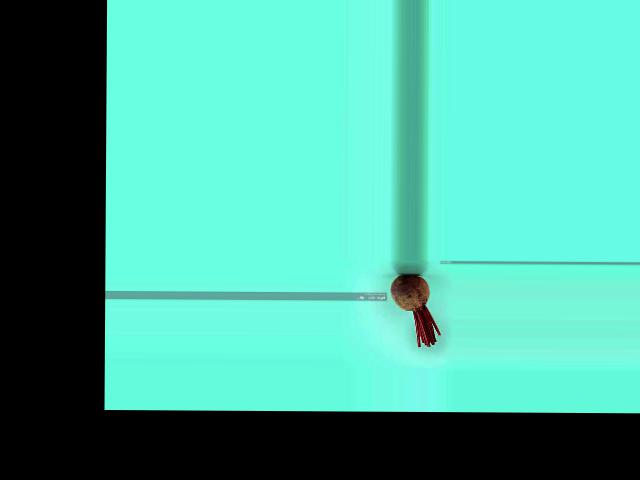beet: (389, 274, 440, 346)
